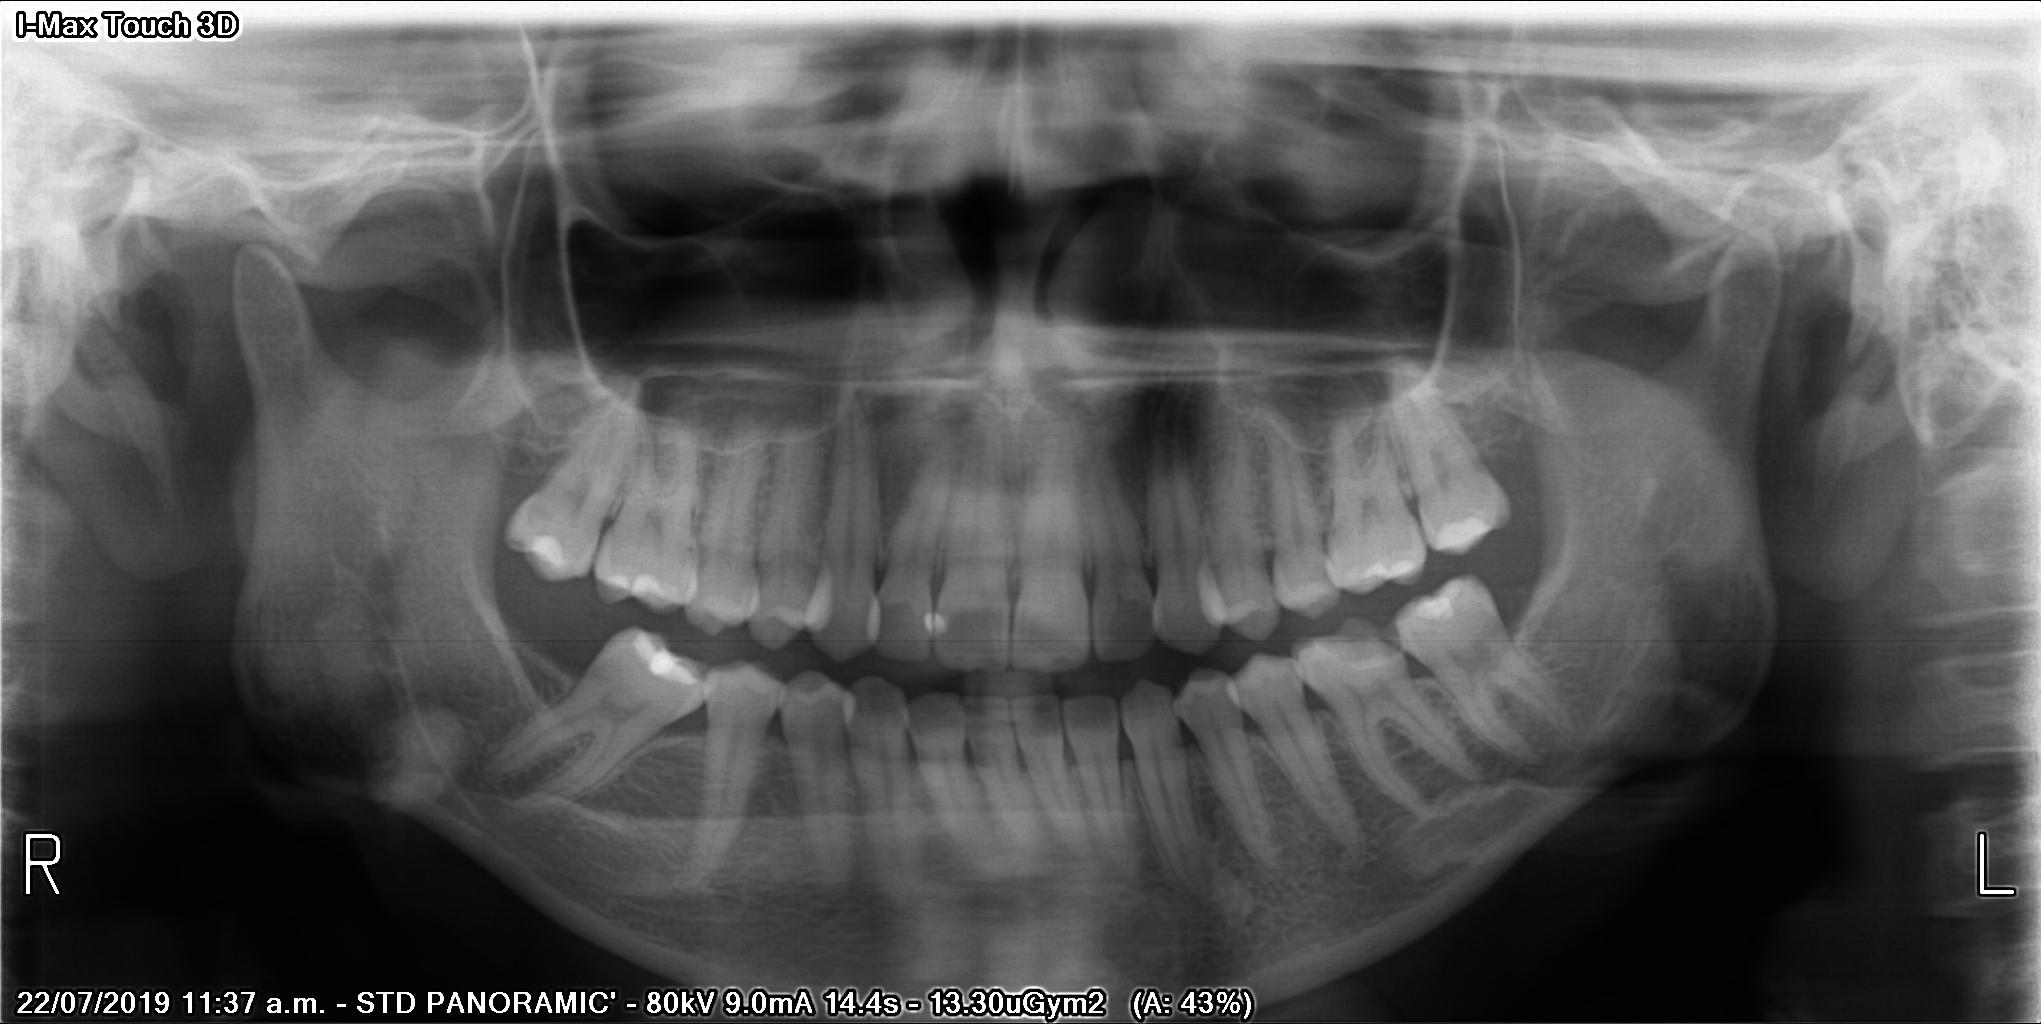Çürük: (616, 624, 705, 696), (1396, 576, 1483, 633), (1192, 556, 1241, 633), (521, 521, 576, 579), (1429, 511, 1495, 556), (598, 562, 676, 600), (857, 583, 896, 650), (918, 616, 952, 635)
Çürük Bölgesi: (1328, 616, 1402, 658)
